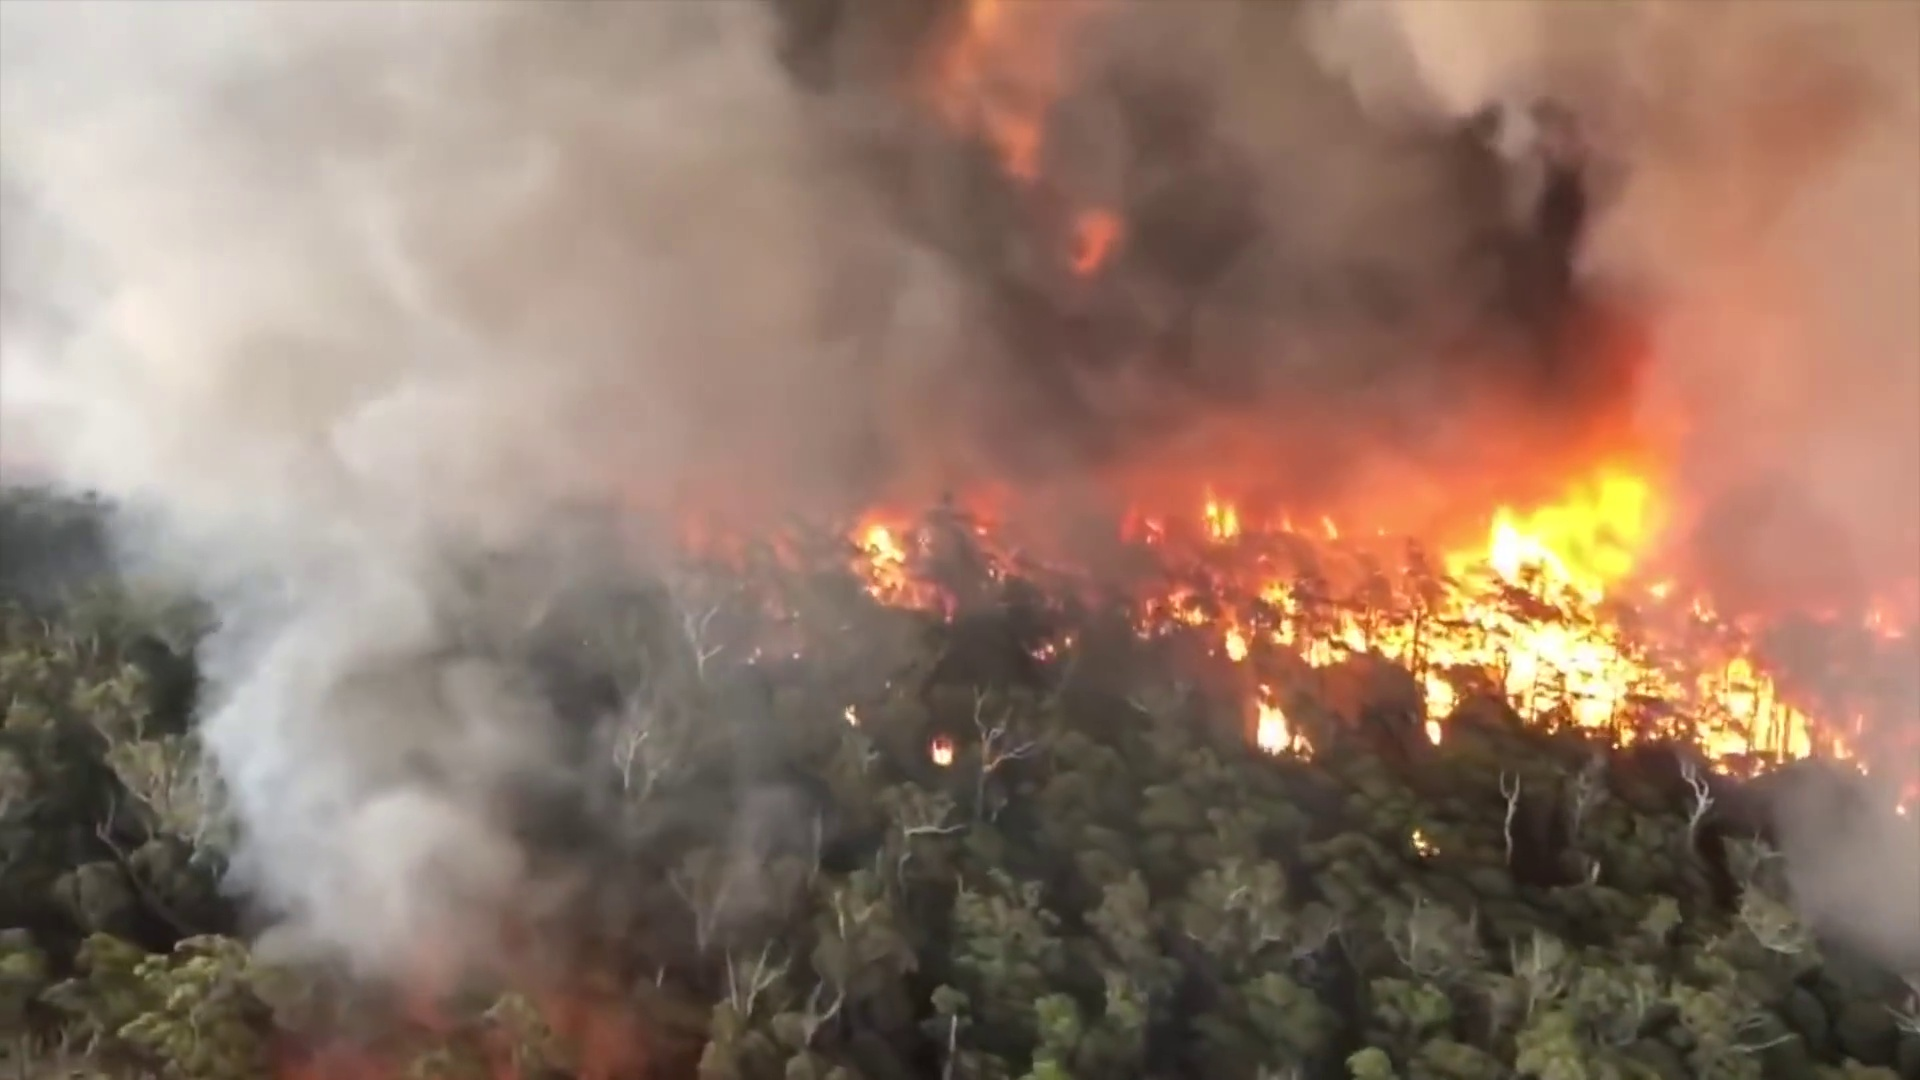fire: (1400, 469, 1675, 735), (1689, 663, 1815, 773), (1254, 585, 1396, 670), (860, 531, 895, 589), (1258, 708, 1290, 757), (1208, 498, 1240, 538), (936, 744, 956, 761)
